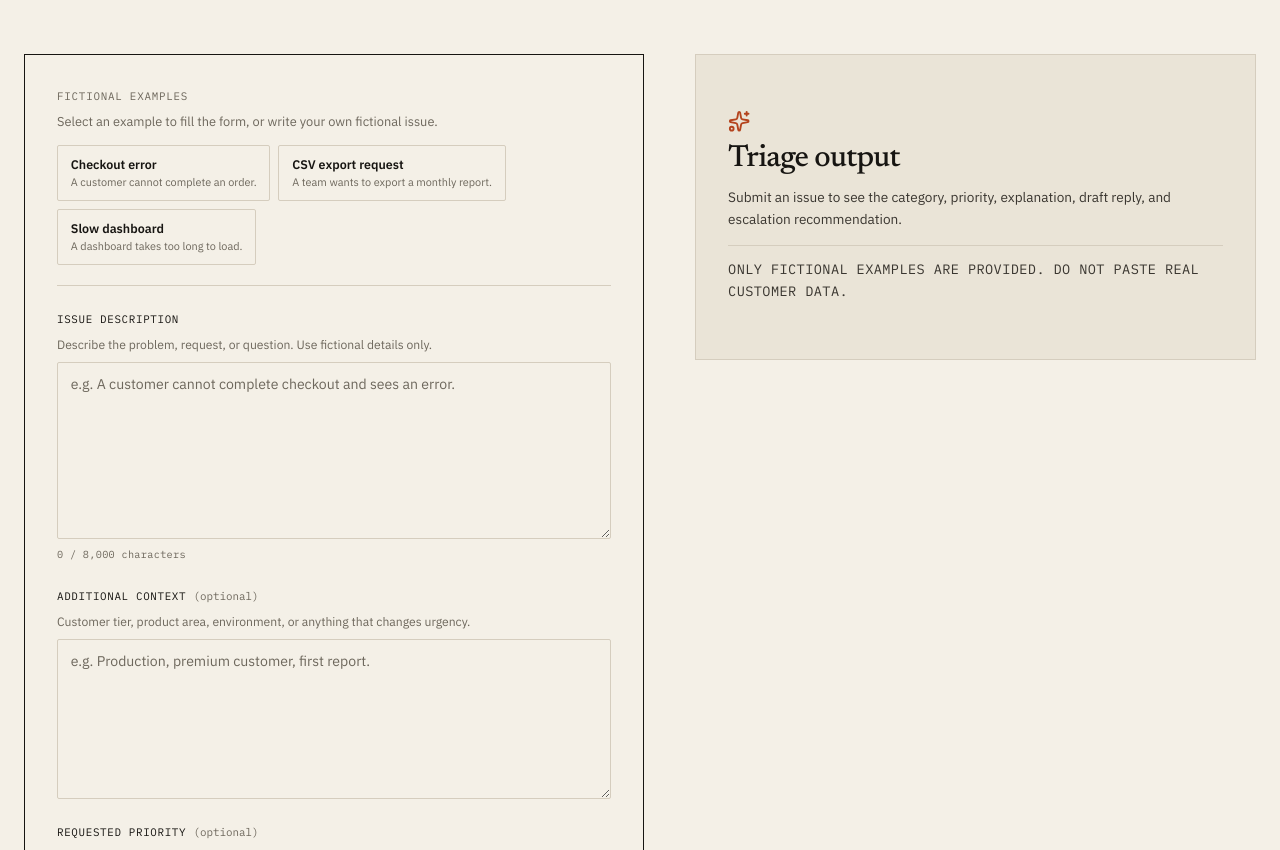
Scenario: TicketTriageSection › shows the safe API error detail and error code
The image size is (1280, 850).
(page scrolled)
Step 1. Type "The checkout page fails for a customer." into the text box with id "triage-ticket-text" → [334, 450], box [57,362,611,539]
(page scrolled)
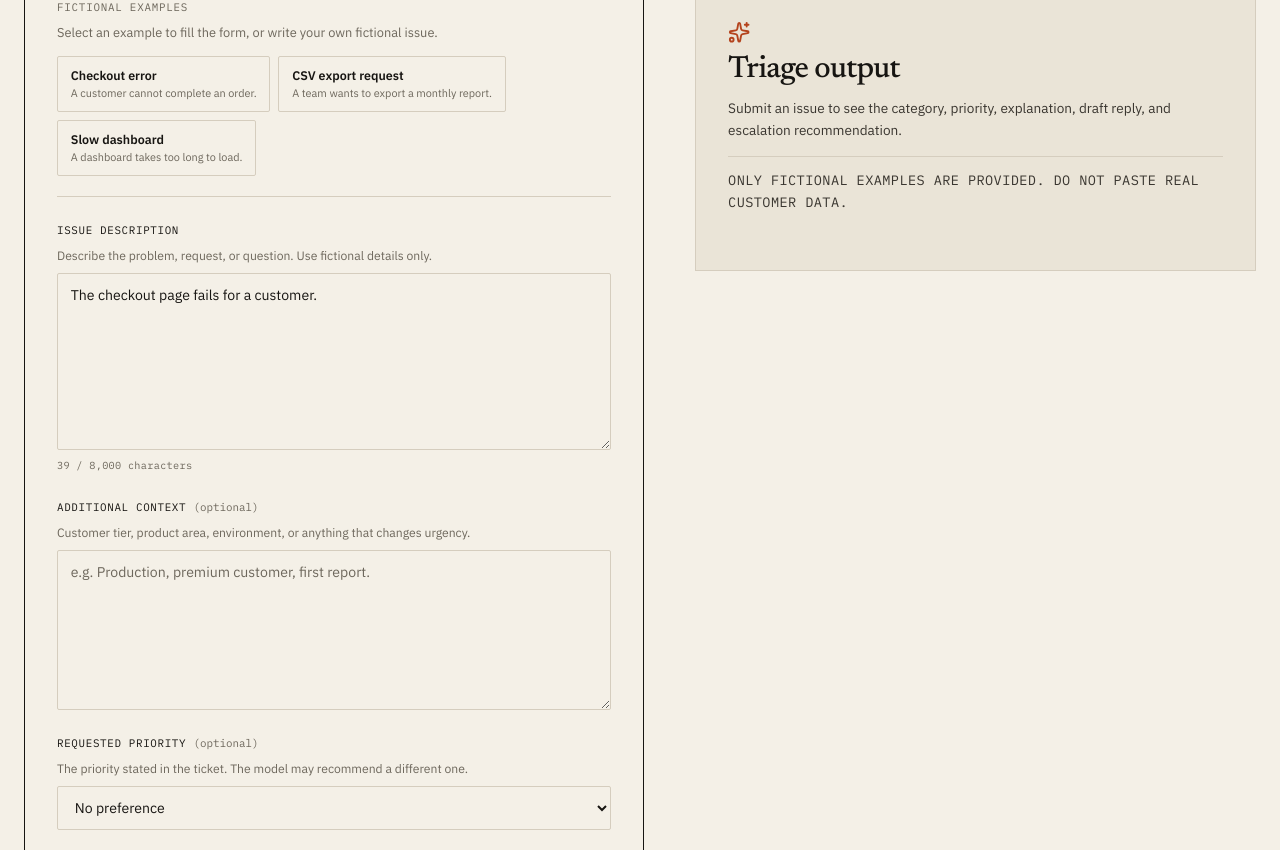
Step 2. Submit the form
(page scrolled)
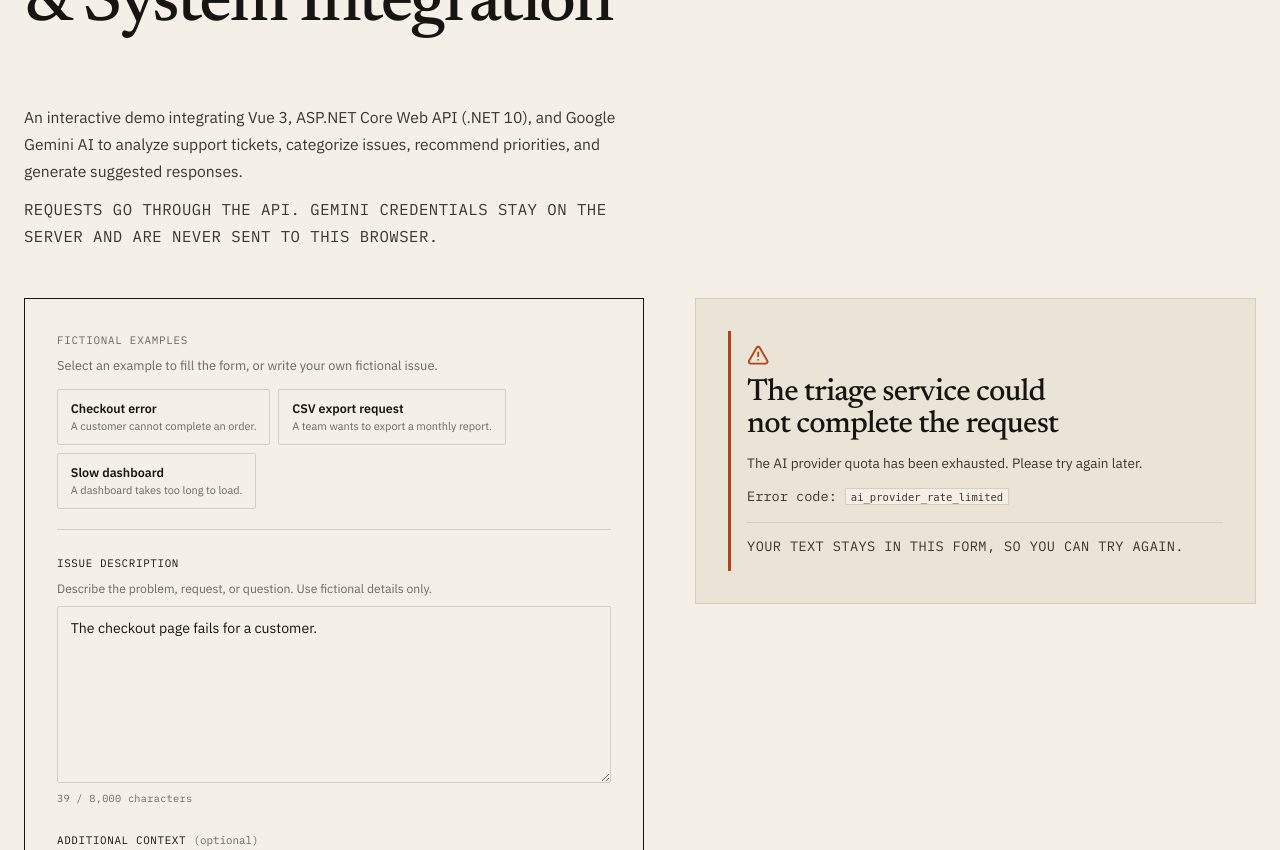
Expected: the message with class "triage__state--error" shows "The AI provider quota has been exhausted", [747,454,1142,472]
Expected: the message with class "triage__state--error" shows "ai_provider_rate_limited", [851,491,1003,503]
